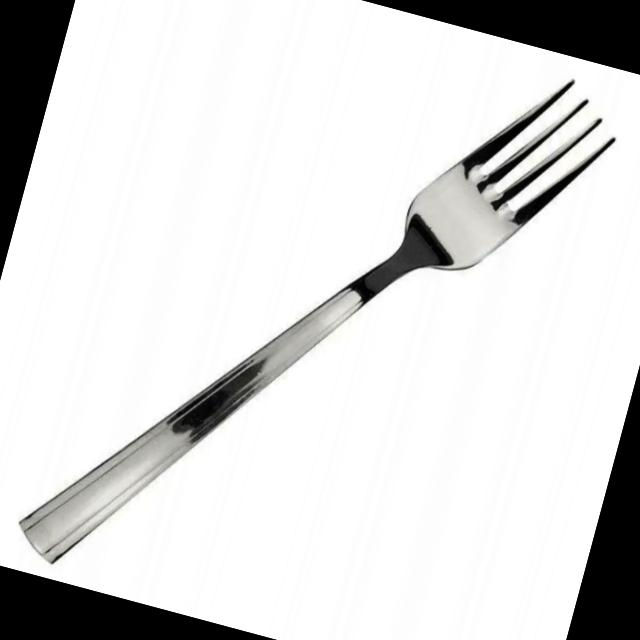fork: (1, 0, 635, 640)
